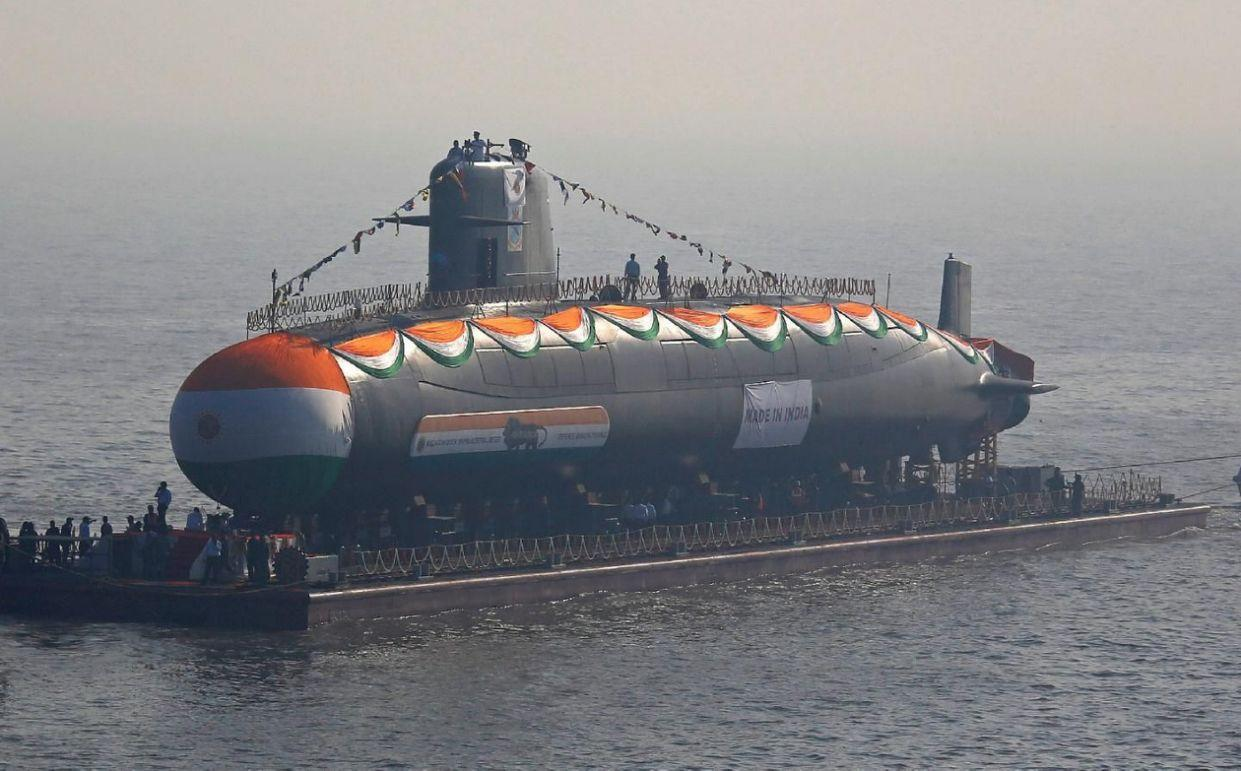Submarine: (72, 64, 1140, 524)
